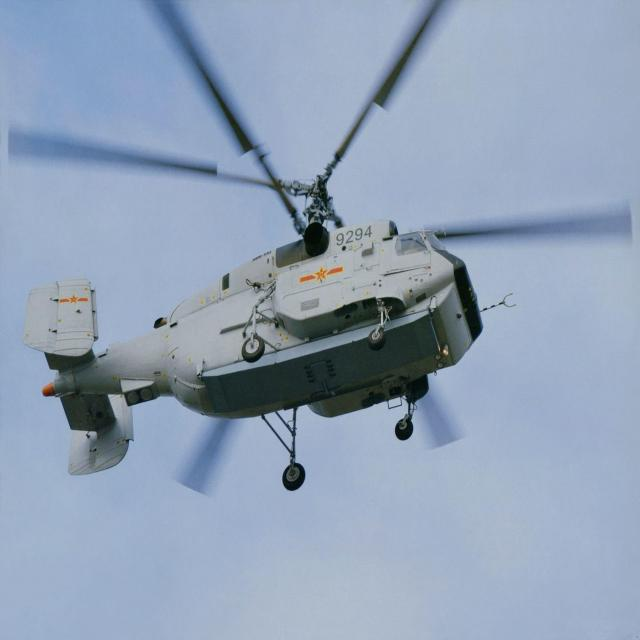MIL_HELO: (7, 3, 631, 499)
